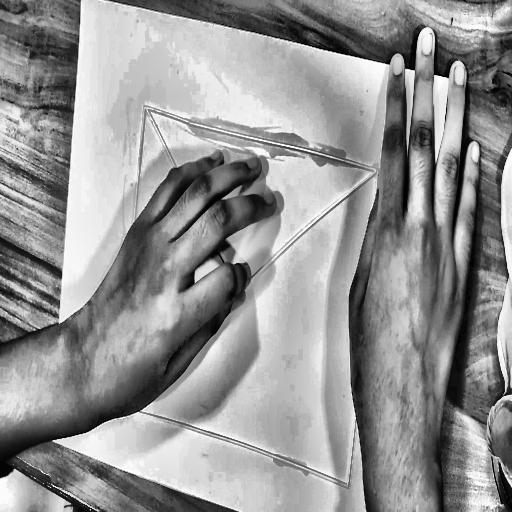bottom_left: (49, 431, 57, 447)
top_right: (446, 71, 455, 89)
